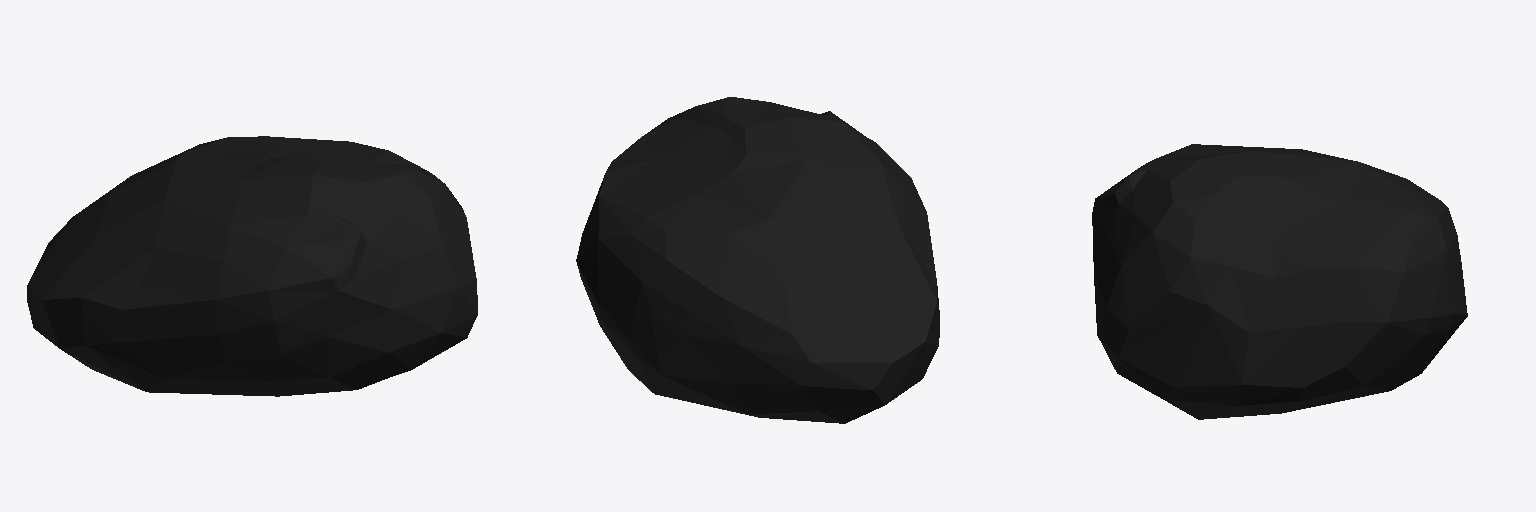
The model's file is Rocks_02.obj.
3 views of the same model, side by side, from view 1: azimuth 30°, elevation 25°; view 2: azimuth 150°, elevation 25°; view 3: azimuth 270°, elevation 25° (orthographic).
Visible parts, largest first — view 1: Rock03_LP; view 2: Rock03_LP; view 3: Rock03_LP.
Boxes of the visible parts, box(x1,y1,x2,y2) form: Rock03_LP: box(27, 136, 477, 396); Rock03_LP: box(576, 97, 939, 423); Rock03_LP: box(1092, 144, 1467, 419).
Size of the model in its own units: 36.27 by 19.7 by 31.73.